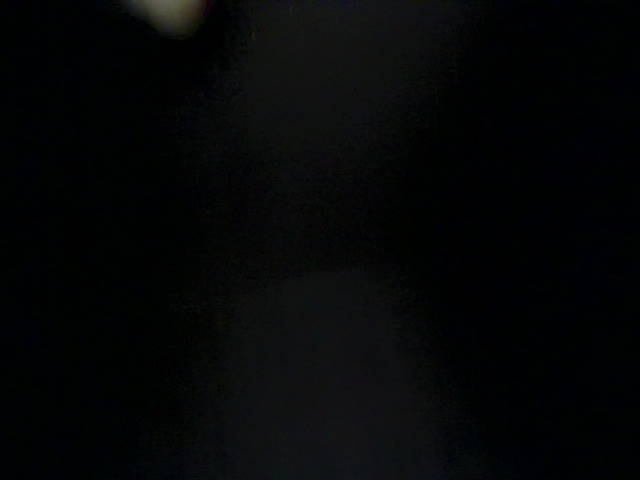QTLJ: (484, 1, 637, 140)
